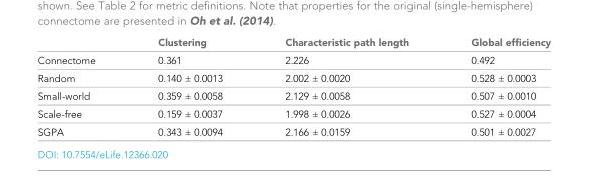table: (36, 37, 550, 137)
table column: (253, 37, 439, 137), (126, 37, 253, 137), (439, 37, 550, 137), (36, 37, 126, 137)
table column header: (36, 37, 550, 51)
table row: (36, 51, 550, 69), (36, 69, 550, 87), (36, 87, 550, 105), (36, 105, 550, 123), (36, 37, 550, 51), (36, 123, 550, 137)
